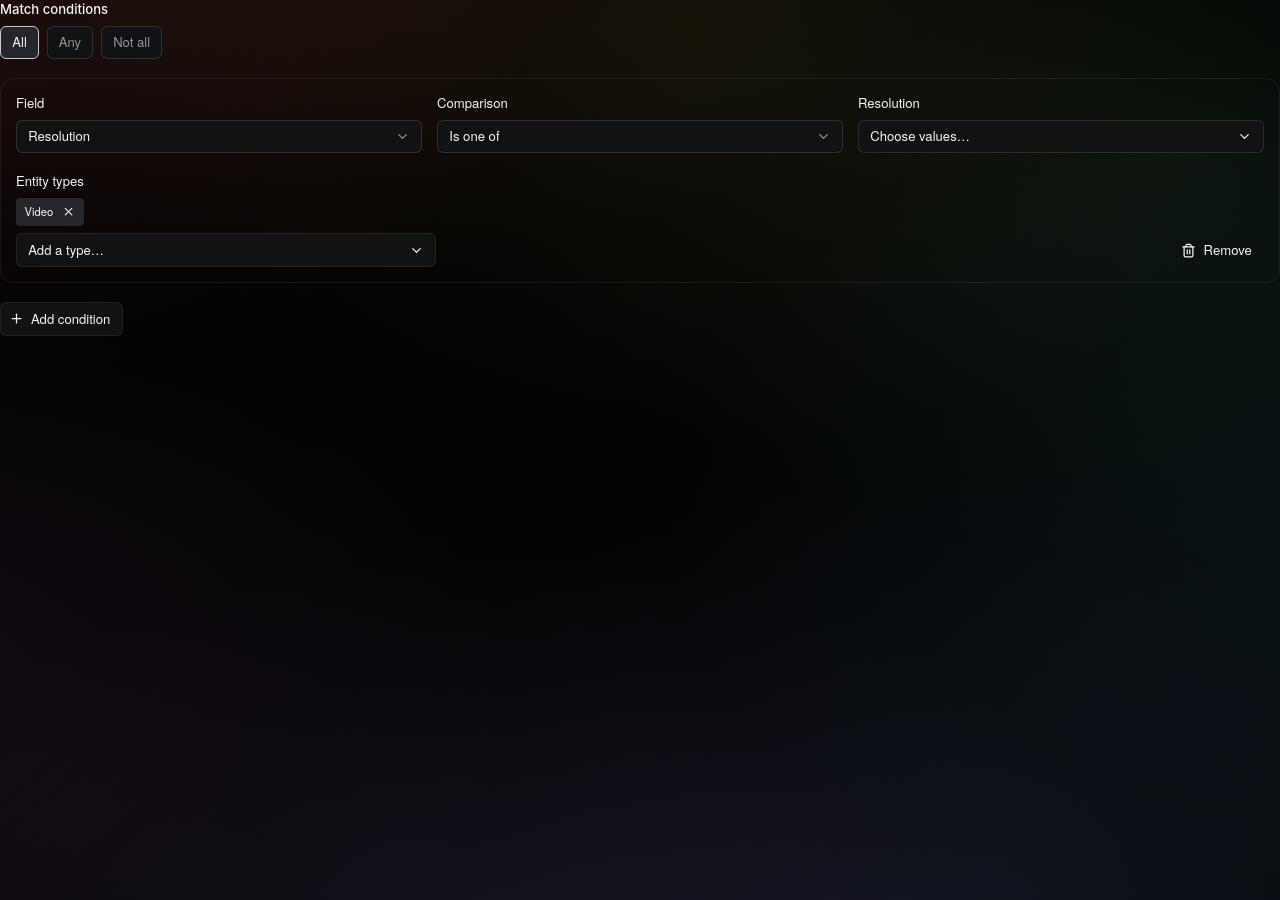
Scenario: ConditionBuilder › offers all supported video kinds without rewriting an existing explicit restriction
Click the button with aria-label "Add entity types" at (66, 250), box [16, 233, 436, 267]
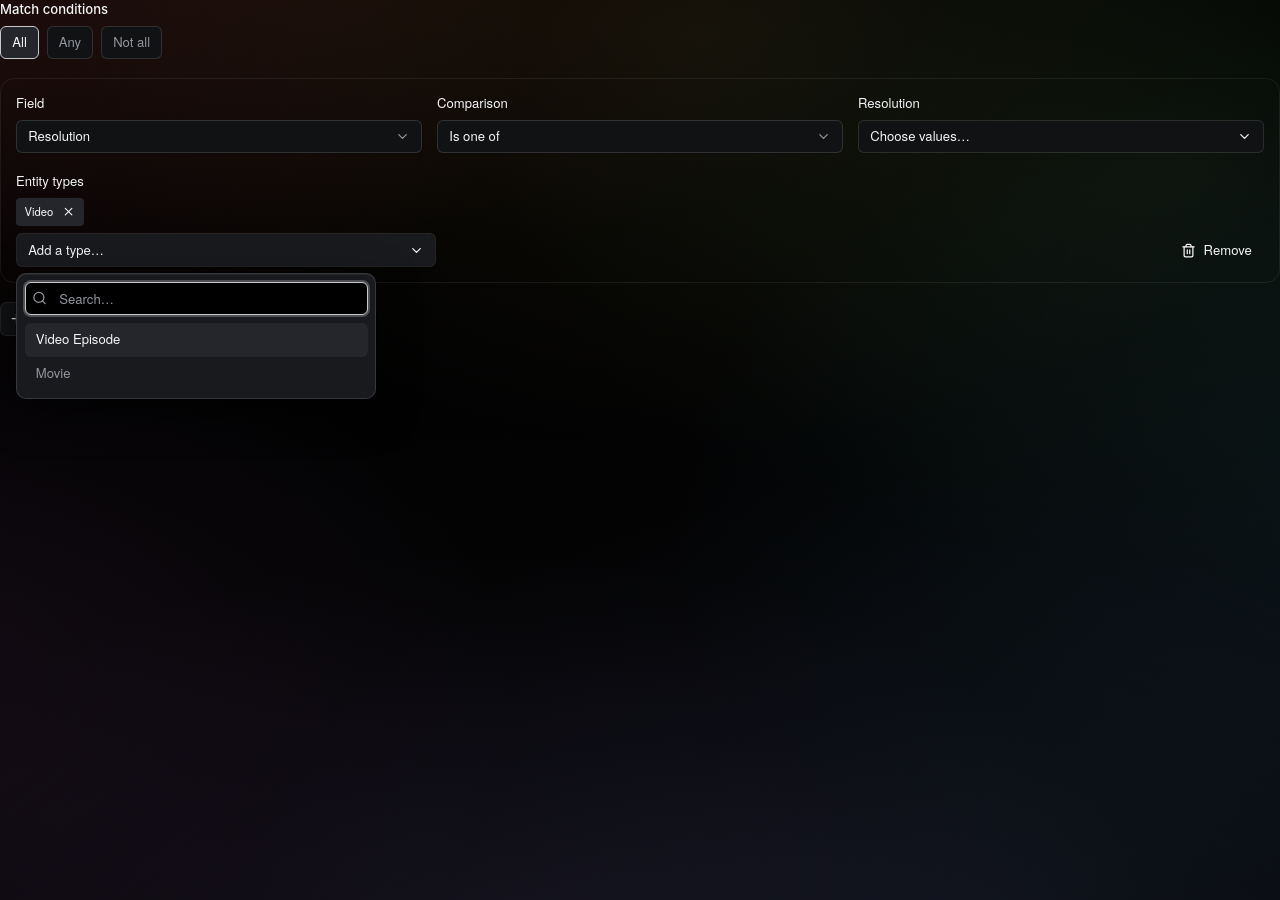
Result: the option "Movie" is shown at [36, 363, 70, 382]
Result: the option "Video Episode" is shown at [24, 323, 368, 357]
